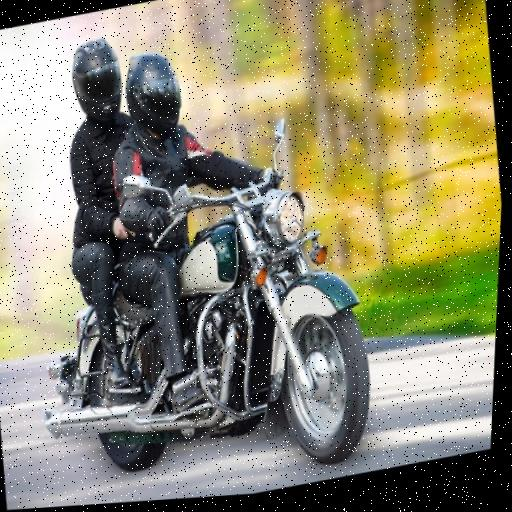Helmet: (114, 34, 192, 148), (57, 32, 133, 130)
Motor: (16, 108, 412, 510)
